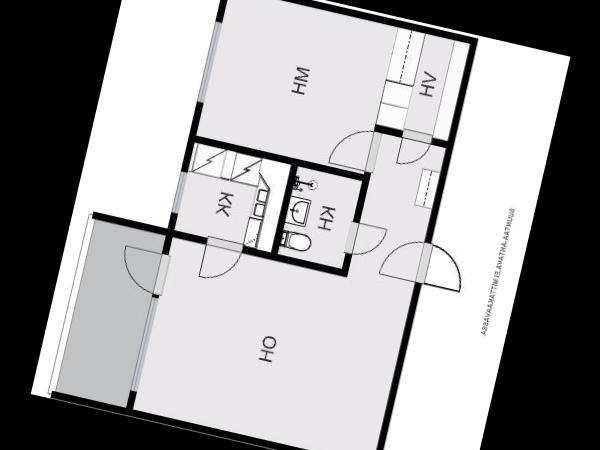door: (112, 240, 175, 298), (412, 238, 471, 296), (325, 119, 383, 176), (374, 229, 433, 285), (195, 232, 248, 286), (341, 216, 389, 262), (393, 132, 436, 172)
window: (126, 292, 162, 397), (192, 12, 226, 108), (168, 166, 189, 218)
